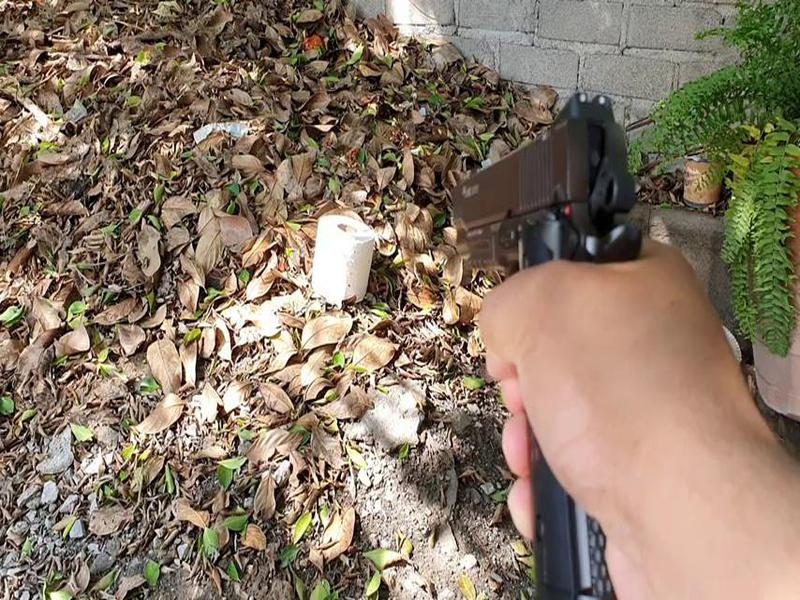Pistola: (439, 71, 652, 600)
